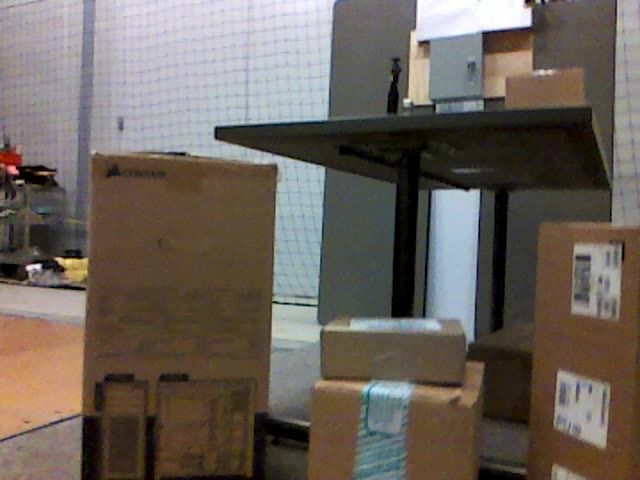box: (80, 152, 278, 480), (529, 222, 640, 479), (311, 364, 486, 480), (322, 313, 467, 384), (467, 323, 533, 424), (505, 68, 585, 108)
